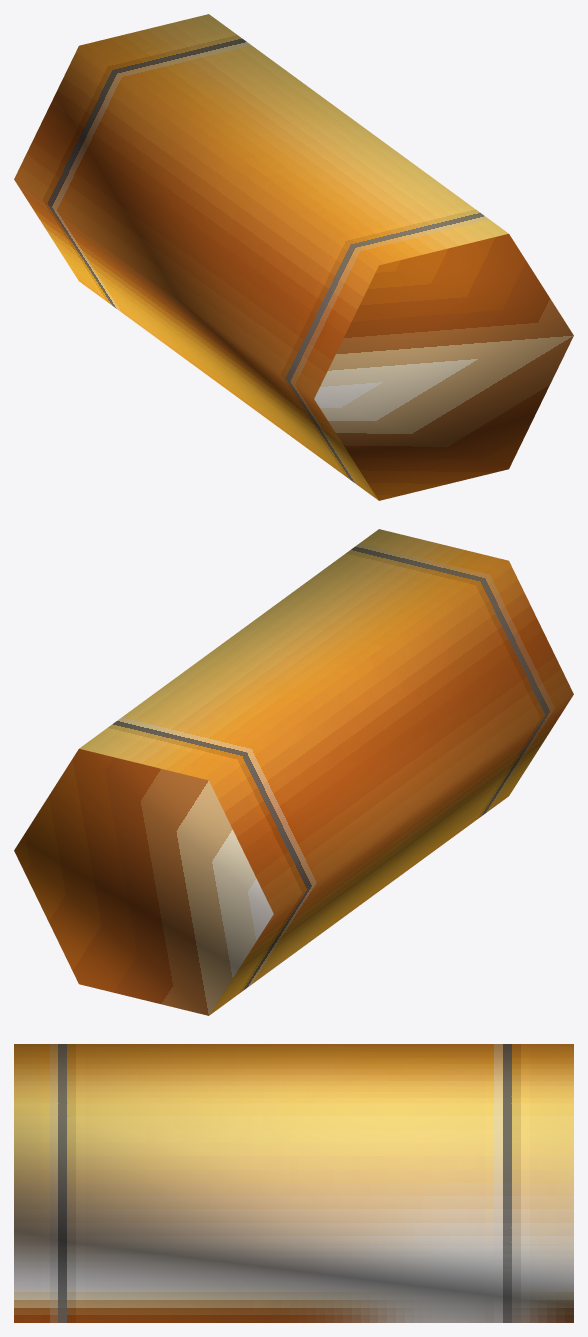
The model's file is shell.glb.
3 renders of one model, top to bottom at view 1: azimuth 30°, elevation 25°; view 2: azimuth 150°, elevation 25°; view 3: azimuth 270°, elevation 25°, orthographic. The views are drawn at different scales.
Visible parts, largest first — view 1: Shell_casing; view 2: Shell_casing; view 3: Shell_casing.
Boxes of the visible parts, box(x1,y1,x2,y2) form: Shell_casing: box(14, 14, 573, 500); Shell_casing: box(14, 529, 573, 1015); Shell_casing: box(14, 1044, 573, 1322).
Size of the model in its own units: 0.5 by 0.433 by 1.
Materials: 1 (1 with a texture image).
